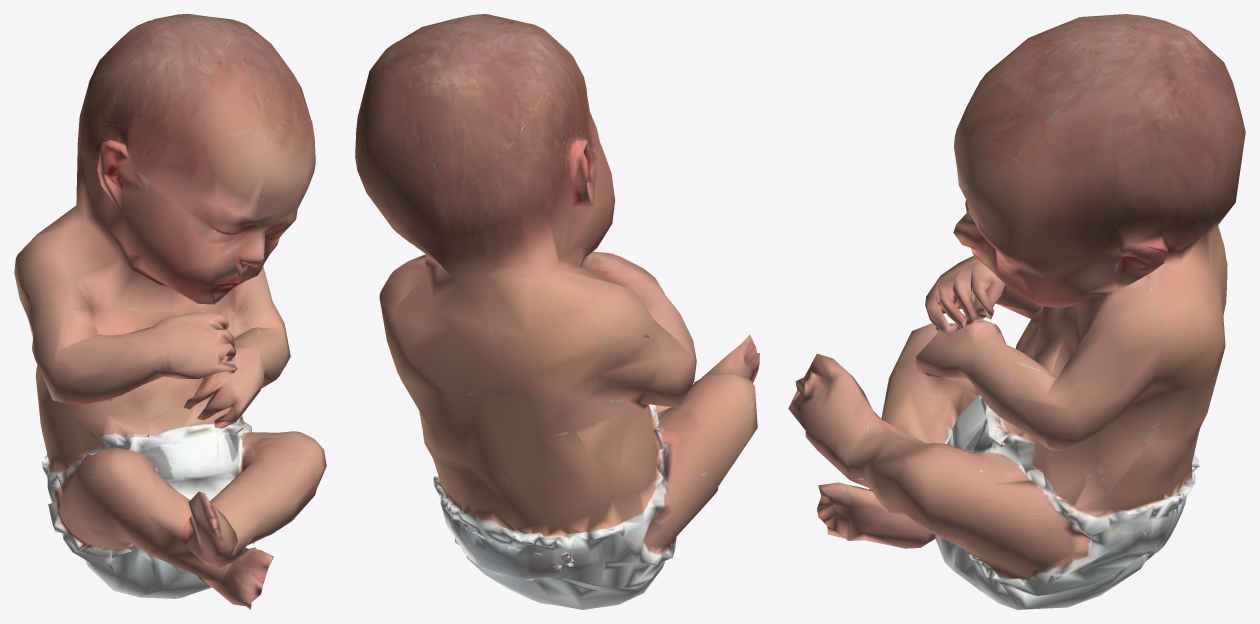
Rendered from lbd.glb.
3 renders of one model, left to right at view 1: azimuth 30°, elevation 25°; view 2: azimuth 150°, elevation 25°; view 3: azimuth 270°, elevation 25°, orthographic. The views are drawn at different scales.
Parts seen in each view (by area): view 1: Object_5; view 2: Object_5; view 3: Object_5.
Boxes of the visible parts, box(x1,y1,x2,y2) form: Object_5: box(14, 14, 326, 609); Object_5: box(355, 14, 759, 609); Object_5: box(788, 14, 1245, 609).
Size of the model in its own units: 1.03 by 1.89 by 1.3.
Materials: 1 (1 with a texture image).
